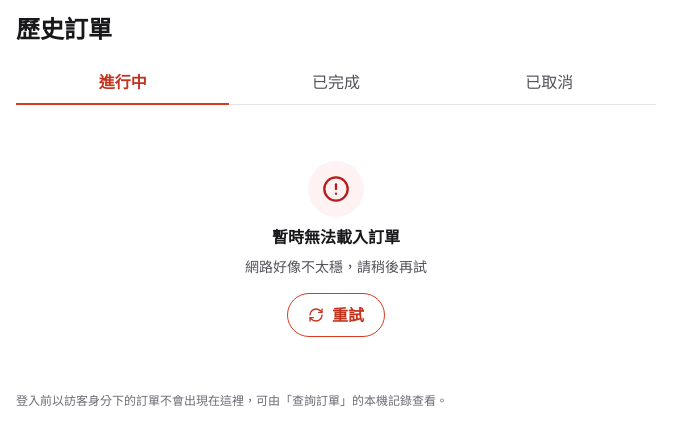
OrdersPage › 載入失敗：顯示錯誤與重試
Expected: the heading "暫時無法載入訂單" is shown, top-left (272, 225), bottom-right (400, 249)
Click the button "重試" at x=336, y=315, box top-left (287, 293), bottom-right (385, 337)
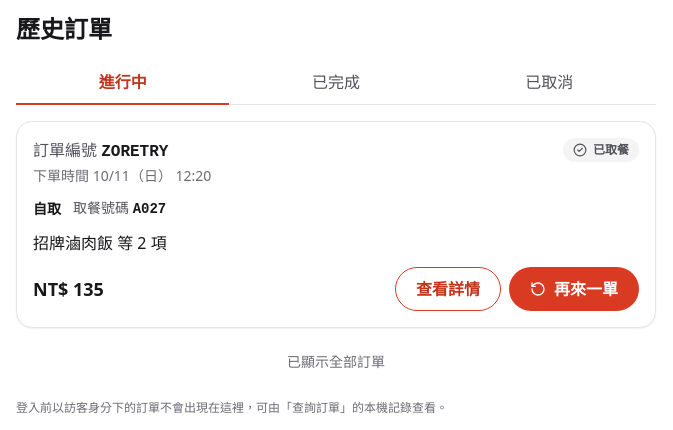
Expected: the text "ZORETRY" is shown, top-left (101, 143), bottom-right (168, 161)
